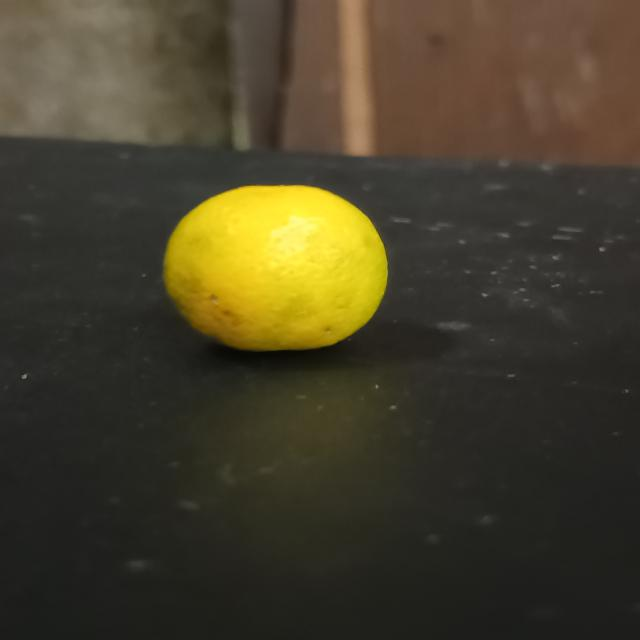greening: (158, 178, 394, 354)
